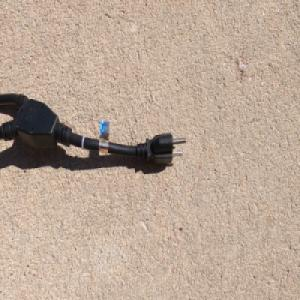Wire: (0, 90, 187, 167)
